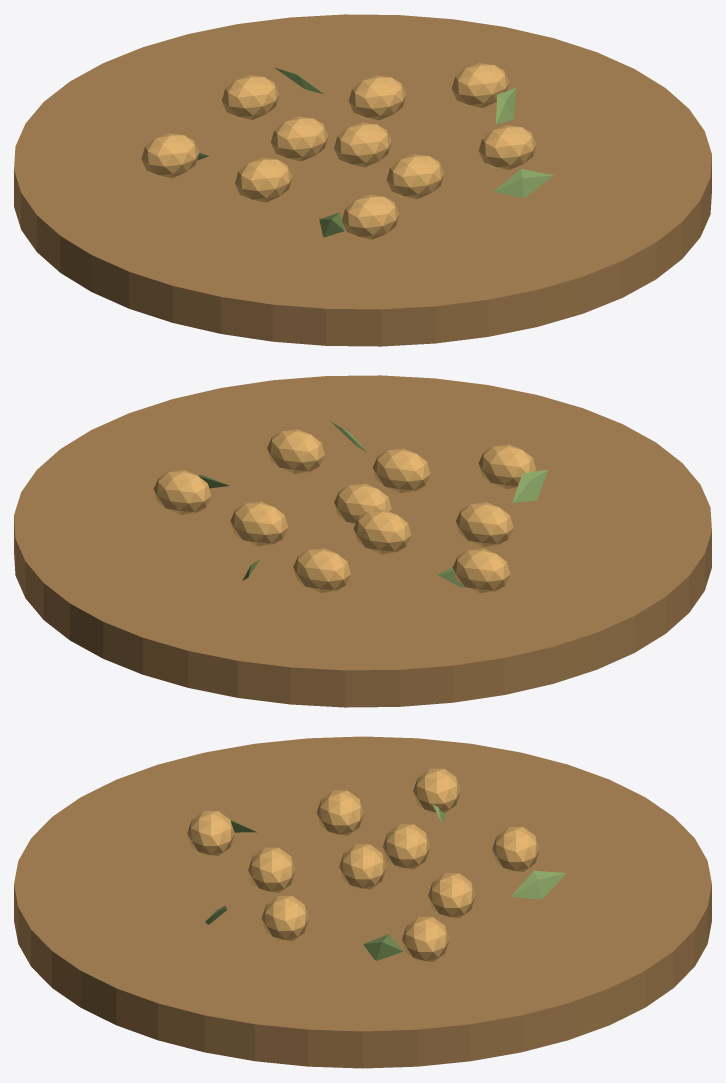
File: GF-193.prepared-meal.glb
The picture shows the model from 3 angles, top to bottom: view 1: azimuth 30°, elevation 25°; view 2: azimuth 150°, elevation 25°; view 3: azimuth 270°, elevation 25°; orthographic projection.
Parts seen in each view (by area): view 1: GF-193.prepared-meal GF-193.prepared-meal batched; view 2: GF-193.prepared-meal GF-193.prepared-meal batched; view 3: GF-193.prepared-meal GF-193.prepared-meal batched.
Boxes of the visible parts, left/top/right/bottom form: GF-193.prepared-meal GF-193.prepared-meal batched: left=14, top=14, right=711, bottom=346; GF-193.prepared-meal GF-193.prepared-meal batched: left=14, top=375, right=711, bottom=707; GF-193.prepared-meal GF-193.prepared-meal batched: left=14, top=736, right=711, bottom=1068.
Bounding box in the file's own units: 0.41 × 0.048 × 0.41.
